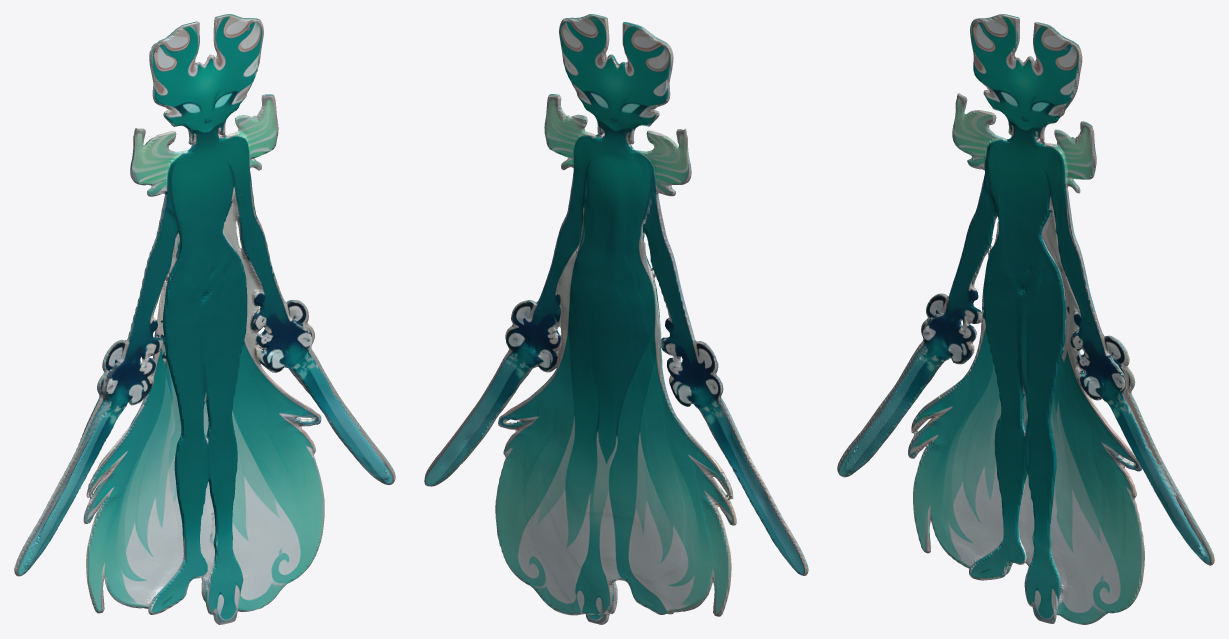
3 views of the same model, side by side, from view 1: azimuth 30°, elevation 25°; view 2: azimuth 150°, elevation 25°; view 3: azimuth 330°, elevation 25° (orthographic).
Parts seen in each view (by area): view 1: textured_mesh.obj; view 2: textured_mesh.obj; view 3: textured_mesh.obj.
Boxes of the visible parts, left/top/right/bottom form: textured_mesh.obj: left=14, top=14, right=395, bottom=624; textured_mesh.obj: left=424, top=14, right=808, bottom=624; textured_mesh.obj: left=837, top=14, right=1214, bottom=624.
Size of the model in its own units: 1.31 by 1.99 by 0.0631.
Materials: 1 (1 with a texture image).
